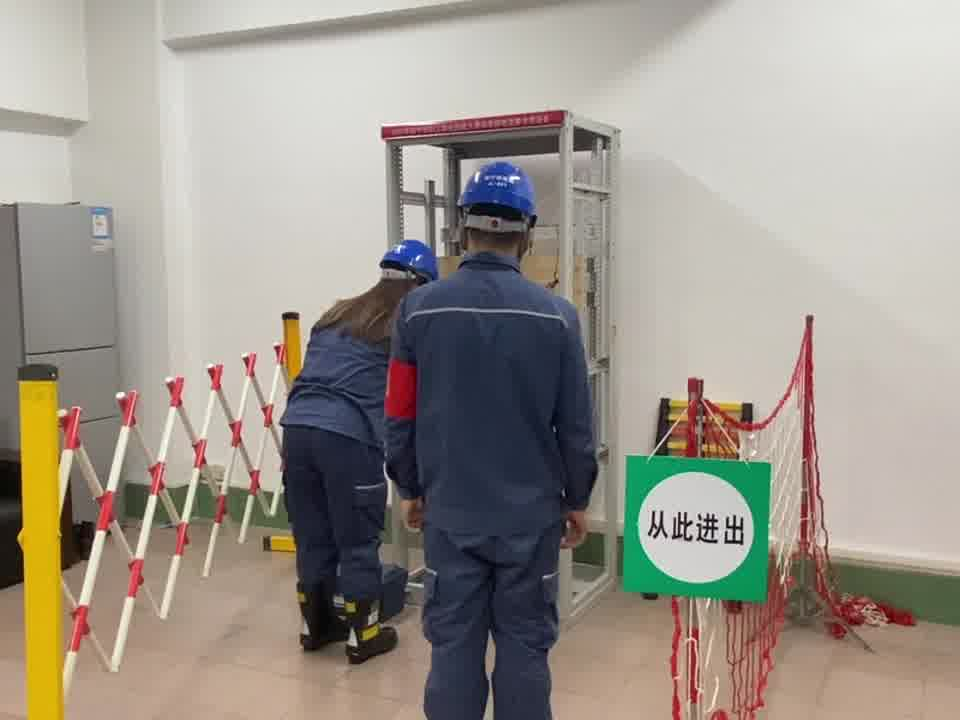badge: (384, 358, 420, 421)
downsuit: (419, 540, 568, 720), (282, 436, 390, 617)
hair: (312, 239, 437, 343)
halt: (455, 161, 543, 264)
hand: (562, 513, 594, 555), (401, 498, 428, 533)
intosign: (626, 459, 766, 596)
person: (388, 161, 601, 719), (276, 236, 437, 658)
shoe: (343, 594, 397, 663), (295, 585, 343, 645)
upsuit: (390, 262, 595, 528), (289, 335, 379, 419)
